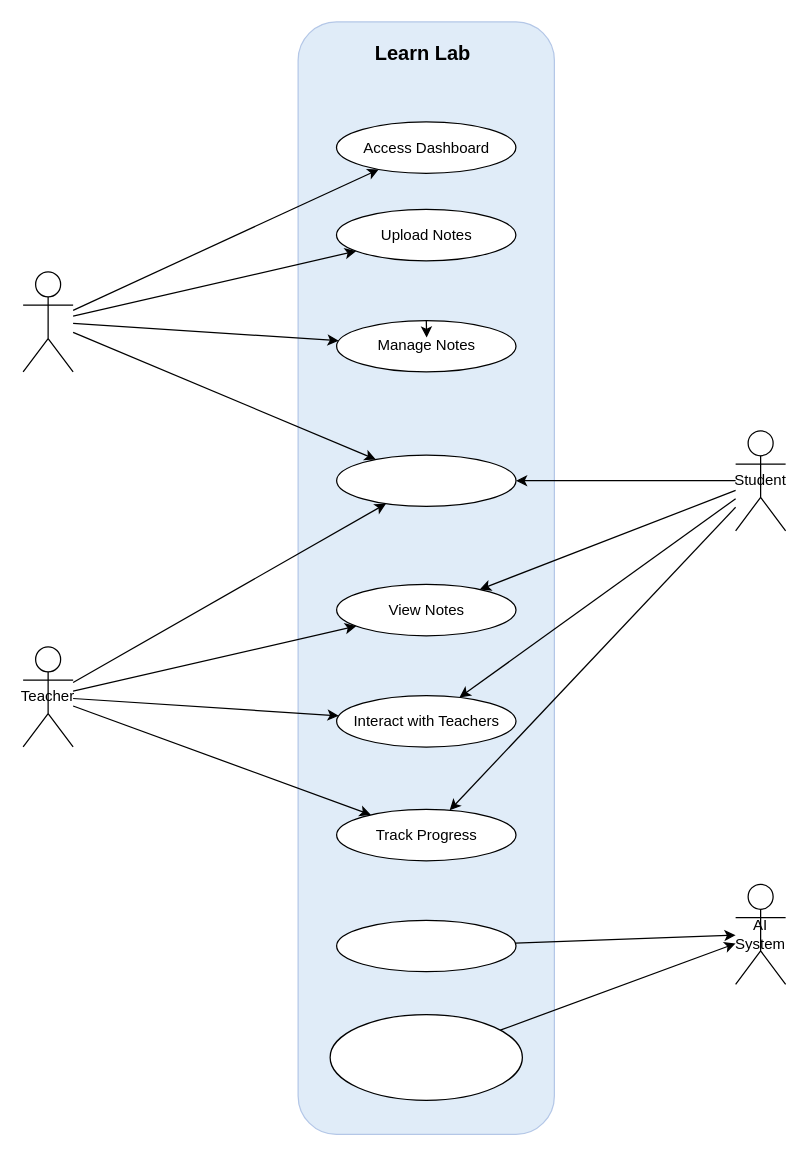
This 808x1156 diagram has some shape labels left out. Each missing label, with the centre of its shape:
"Admin" belongs at [47,321].
"Analyze Student Data" belongs at [425,945].
"Login" belongs at [425,480].
"Provide Personalized Recommendations" belongs at [425,1056].
